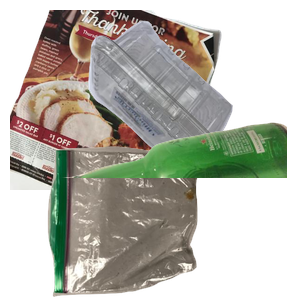glass: (60, 120, 300, 300)
paper: (10, 10, 224, 190)
plastic: (86, 18, 300, 171)
trash: (45, 144, 235, 300)
